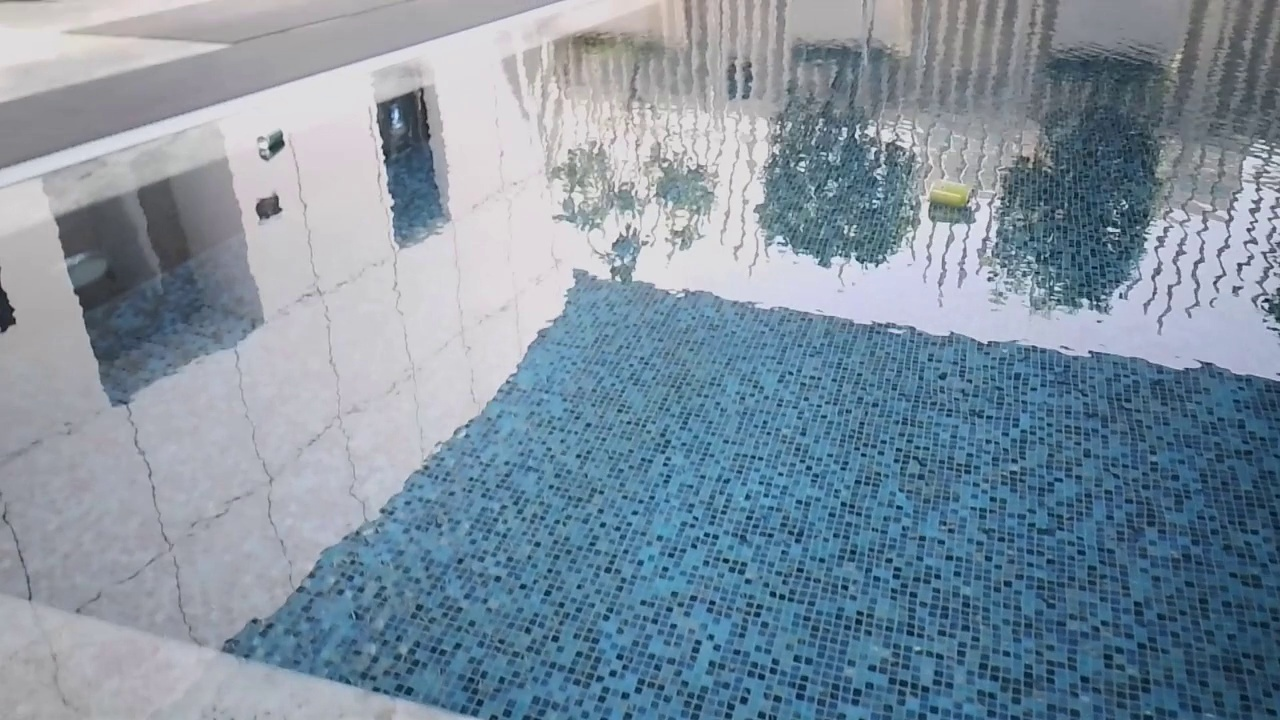debris: (922, 170, 975, 210)
